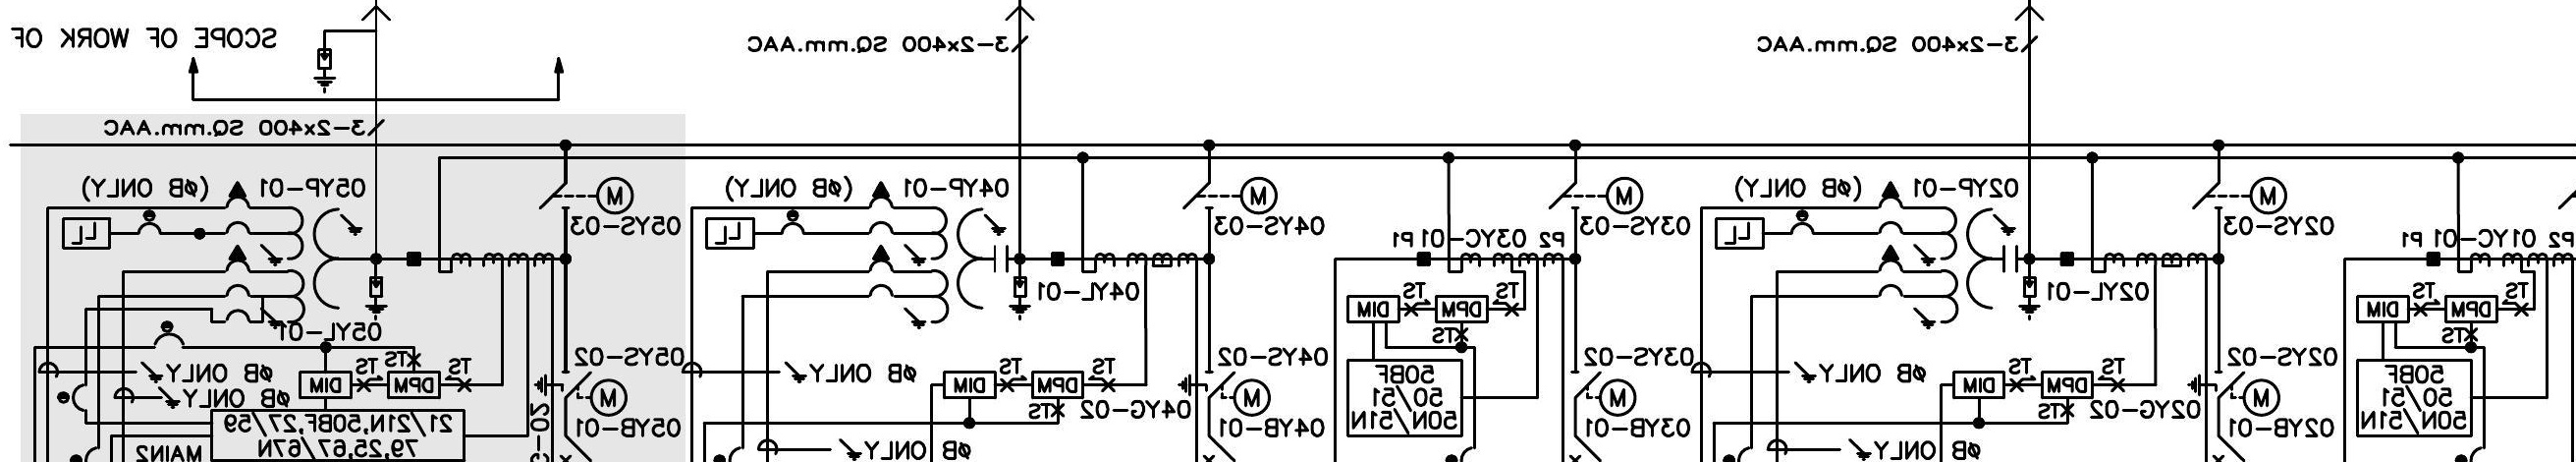115_1way_ds_w_motor: (2192, 176, 2288, 215), (1548, 176, 1644, 215), (1181, 176, 1278, 215), (539, 176, 636, 215), (1571, 370, 1638, 418)
115_3ways_ds_w_motor: (2187, 370, 2282, 418), (1176, 370, 1272, 418), (534, 370, 628, 418)
115_cvt_1p: (1876, 181, 2019, 330), (866, 181, 1009, 330)
115_la: (312, 48, 337, 95), (2017, 276, 2042, 321), (1009, 276, 1032, 322), (365, 276, 388, 322)
115_vt_1p: (223, 181, 363, 330)
DIM: (1345, 294, 1401, 324), (2356, 294, 2410, 324), (1952, 370, 2006, 400), (943, 370, 997, 400), (299, 370, 353, 400)
DPM: (1434, 294, 1490, 324), (2445, 294, 2499, 324), (2040, 370, 2095, 400), (388, 370, 442, 400), (1032, 370, 1084, 400)
LL: (1713, 217, 1764, 250), (705, 217, 756, 250), (61, 217, 112, 250)
